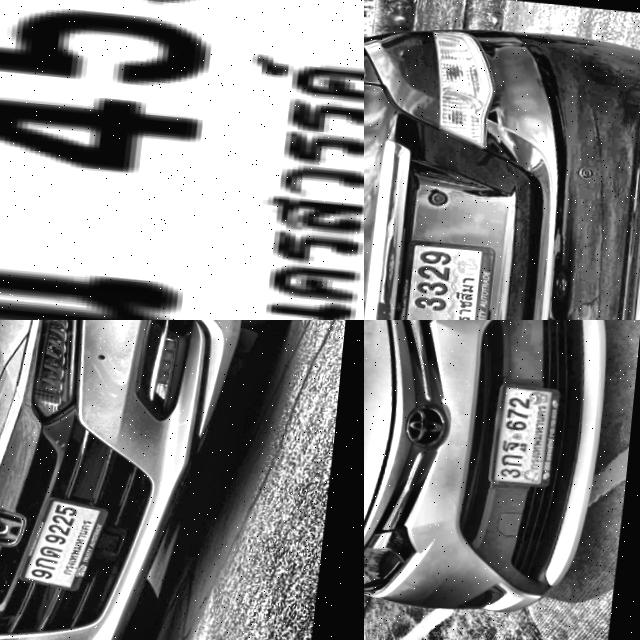license-plate: (0, 0, 364, 320), (18, 485, 129, 589), (397, 232, 499, 320), (492, 370, 570, 480)
